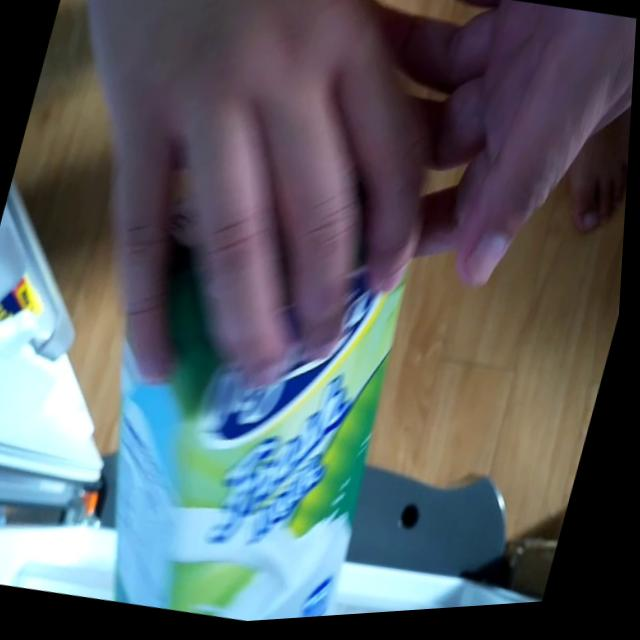milk: (51, 202, 436, 636)
